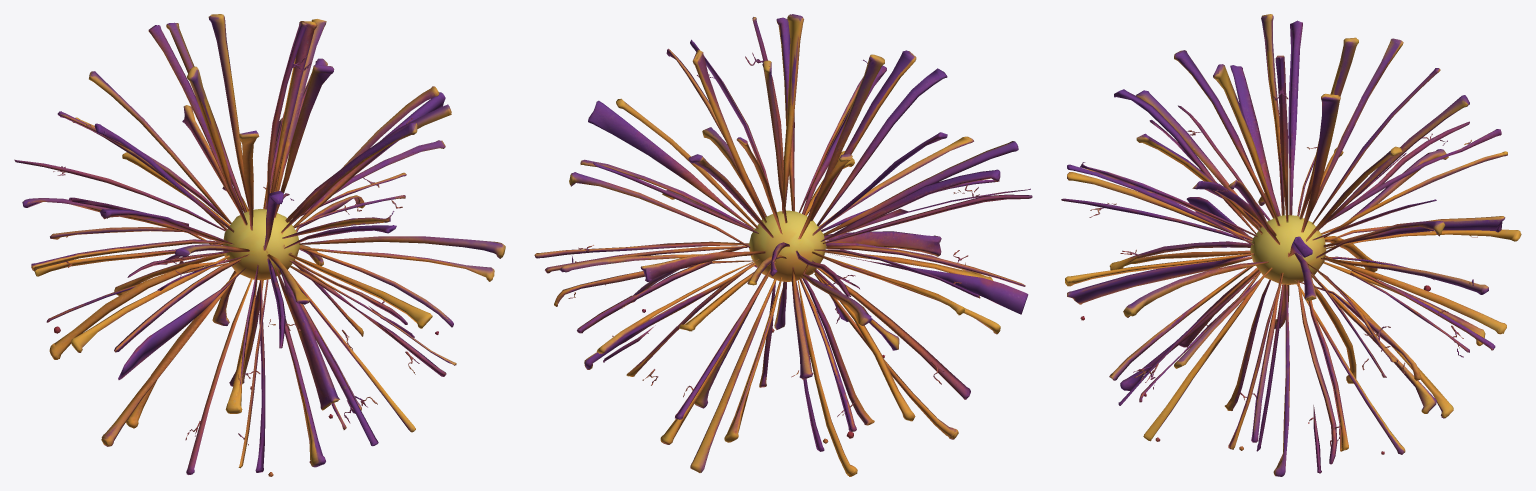
File: r33-burst.glb
3 views of the same model, side by side, from view 1: azimuth 30°, elevation 25°; view 2: azimuth 150°, elevation 25°; view 3: azimuth 270°, elevation 25° (orthographic).
Visible parts, largest first — view 1: tripo_node_65ee2c85-dc7f-47a3-982b-3a6520167468; view 2: tripo_node_65ee2c85-dc7f-47a3-982b-3a6520167468; view 3: tripo_node_65ee2c85-dc7f-47a3-982b-3a6520167468.
Boxes of the visible parts, box(x1,y1,x2,y2) form: tripo_node_65ee2c85-dc7f-47a3-982b-3a6520167468: box(14, 14, 505, 476); tripo_node_65ee2c85-dc7f-47a3-982b-3a6520167468: box(534, 14, 1032, 476); tripo_node_65ee2c85-dc7f-47a3-982b-3a6520167468: box(1061, 14, 1521, 476).
Bounding box in the file's own units: 0.998 × 0.998 × 0.9902.
Materials: 1 (1 with a texture image).
